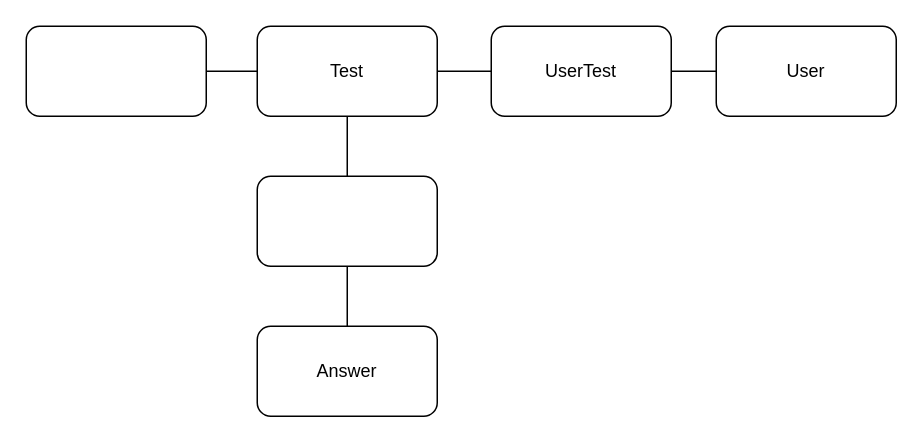
Image size: 923x443. Some labels were removed from this diagram. The centre of each missing label's shape, as x and y in pixels:
"Category" belongs at (115,70).
"Question" belongs at (346,220).
